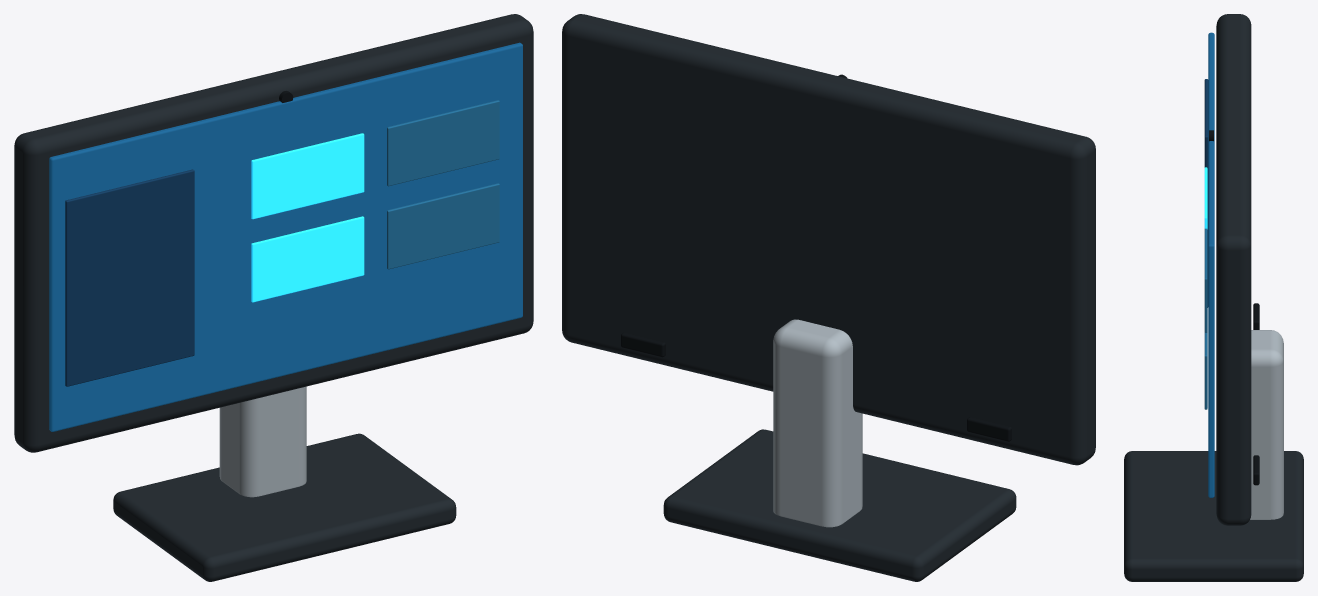
The model's file is all-in-one-desktop.glb.
The picture shows the model from 3 angles, left to right: view 1: azimuth 30°, elevation 25°; view 2: azimuth 150°, elevation 25°; view 3: azimuth 270°, elevation 25°; orthographic projection. The views are drawn at different scales.
Visible parts, largest first — view 1: Edge-to-edge display, All-in-one display chassis, Desktop tile (×4), Weighted base, Desktop sidebar, Adjustable stand; view 2: All-in-one display chassis, Weighted base, Adjustable stand, Rear port (×2); view 3: Weighted base, All-in-one display chassis, Adjustable stand, Edge-to-edge display, Desktop tile (×2), Desktop sidebar.
Boxes of the visible parts, x1=… form: Edge-to-edge display: x1=49, y1=42, x2=522, y2=431; All-in-one display chassis: x1=14, y1=14, x2=533, y2=452; Desktop tile (×4): x1=251, y1=100, x2=499, y2=302; Weighted base: x1=113, y1=433, x2=456, y2=581; Desktop sidebar: x1=65, y1=169, x2=194, y2=386; Adjustable stand: x1=219, y1=386, x2=306, y2=497; All-in-one display chassis: x1=562, y1=14, x2=1095, y2=465; Weighted base: x1=663, y1=429, x2=1016, y2=581; Adjustable stand: x1=773, y1=319, x2=862, y2=527; Rear port (×2): x1=621, y1=332, x2=1011, y2=441; Weighted base: x1=1124, y1=451, x2=1303, y2=581; All-in-one display chassis: x1=1216, y1=14, x2=1251, y2=525; Adjustable stand: x1=1250, y1=330, x2=1283, y2=519; Edge-to-edge display: x1=1208, y1=32, x2=1214, y2=497; Desktop tile (×2): x1=1204, y1=228, x2=1207, y2=409; Desktop sidebar: x1=1204, y1=79, x2=1208, y2=307.
Size of the model in its own units: 2.18 by 1.78 by 0.72.
